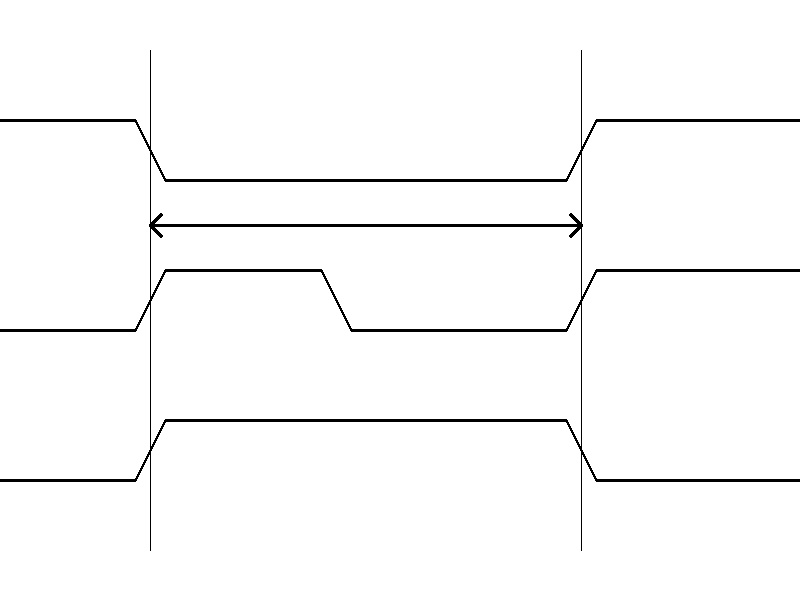double_arrow: (150, 210, 581, 240)
